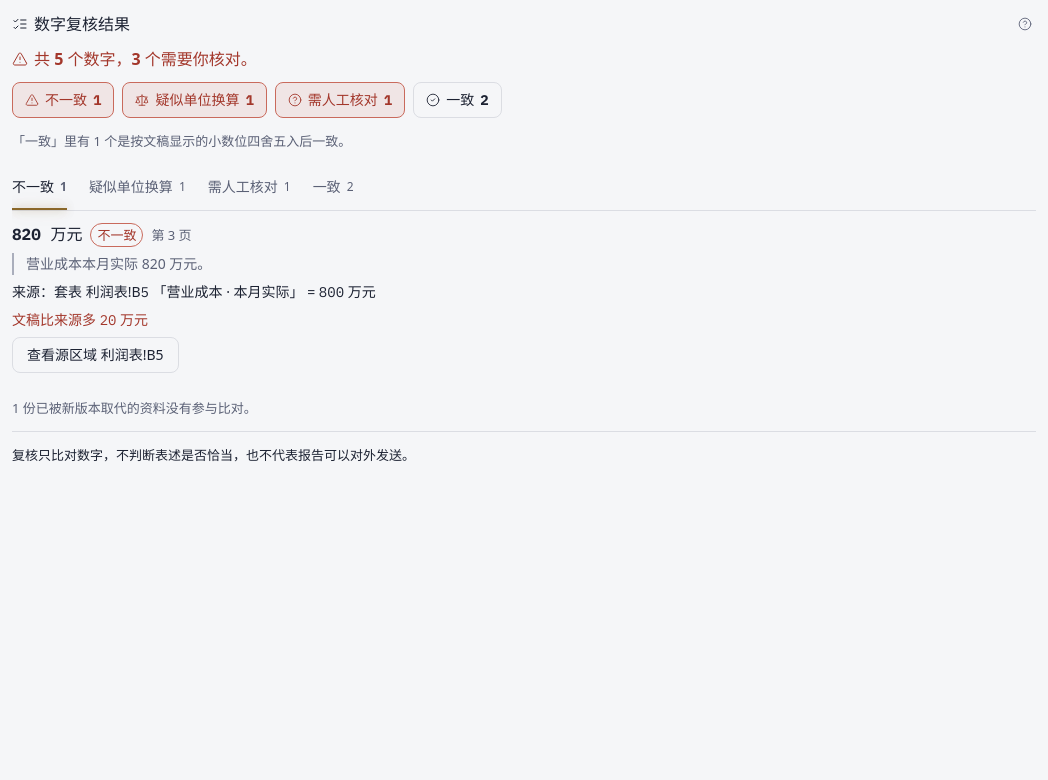
Test: ReportReviewPanel › shows counts in words, opens on the mismatches and lists each number with its place, excerpt and source
The width and height of the screenshot is (1048, 780).
Expected: the message reads "共 5 个数字，3 个需要你核对。", [34, 48, 257, 70]
Expected: the text "「一致」里有 1 个是按文稿显示的小数位四舍五入后一致。" is shown, [12, 132, 351, 150]
Press the mouse on the tab named "疑似单位换算1" at (137, 187), box [89, 164, 186, 210]
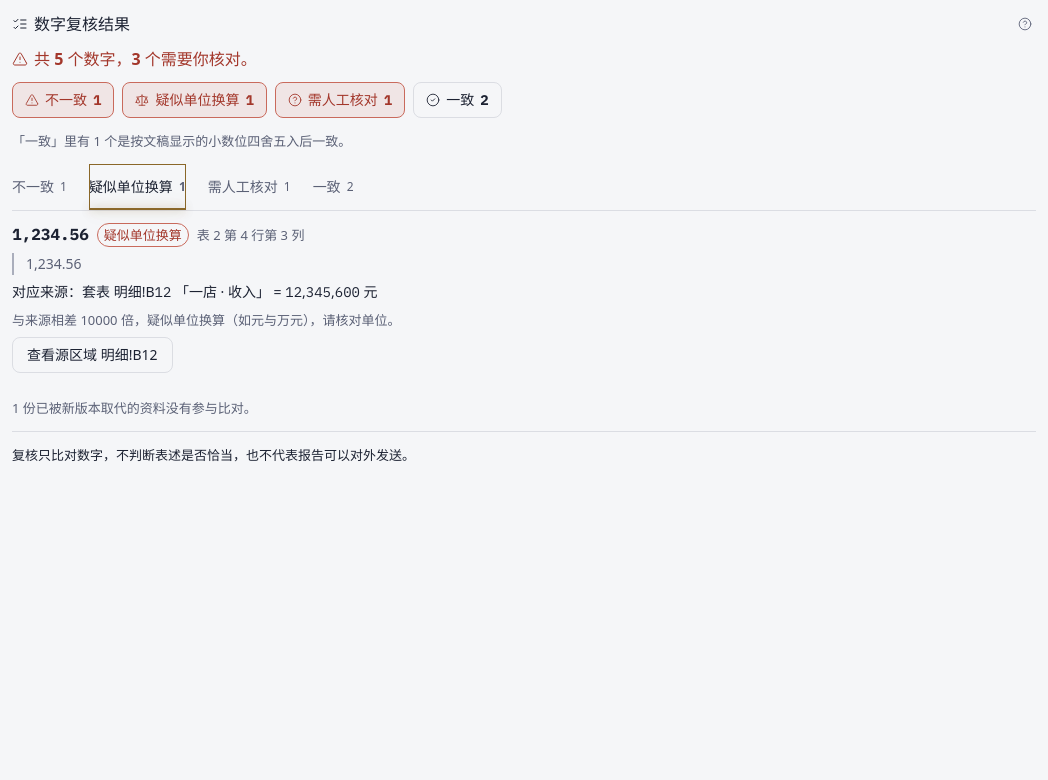
Expected: the text "表 2 第 4 行第 3 列" is shown, [197, 224, 304, 246]
Expected: the text "对应来源：套表 明细!B12 「一店 · 收入」 = 12,345,600 元" is shown, [12, 282, 378, 301]
Click the button "查看源区域 明细!B12" at (92, 355), box [12, 337, 172, 373]
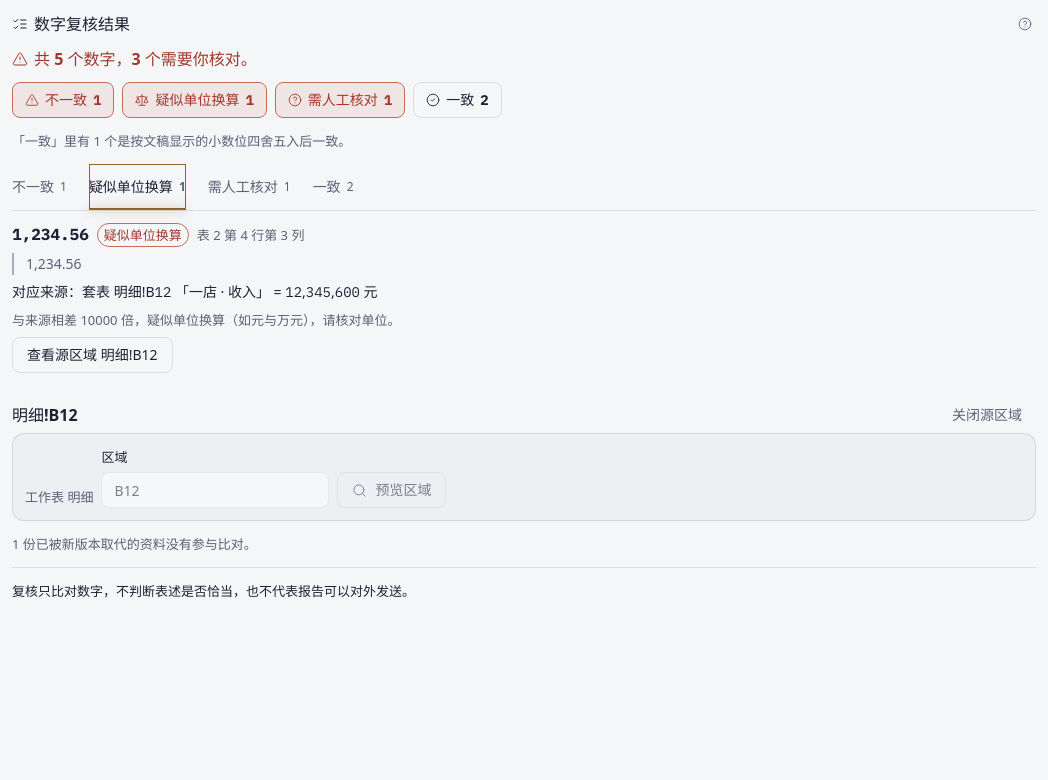
Expected: the heading "明细!B12" is shown, [12, 403, 78, 427]
Press the mouse on the tab named "一致2" at (333, 187), box [313, 164, 354, 210]
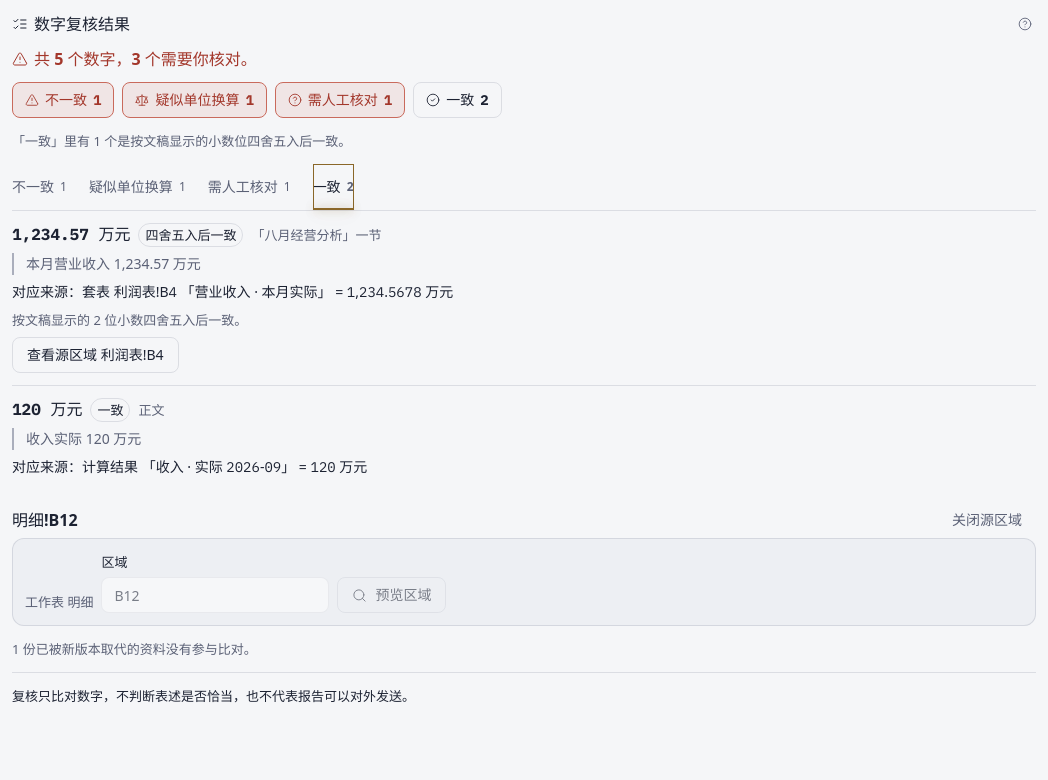
Expected: the text "1 份已被新版本取代的资料没有参与比对。" is shown, [12, 640, 257, 658]
Expected: the text "四舍五入后一致" is shown, [138, 223, 243, 247]
Expected: the text "对应来源：计算结果 「收入 · 实际 2026-09」 = 120 万元" is shown, [12, 457, 367, 476]
